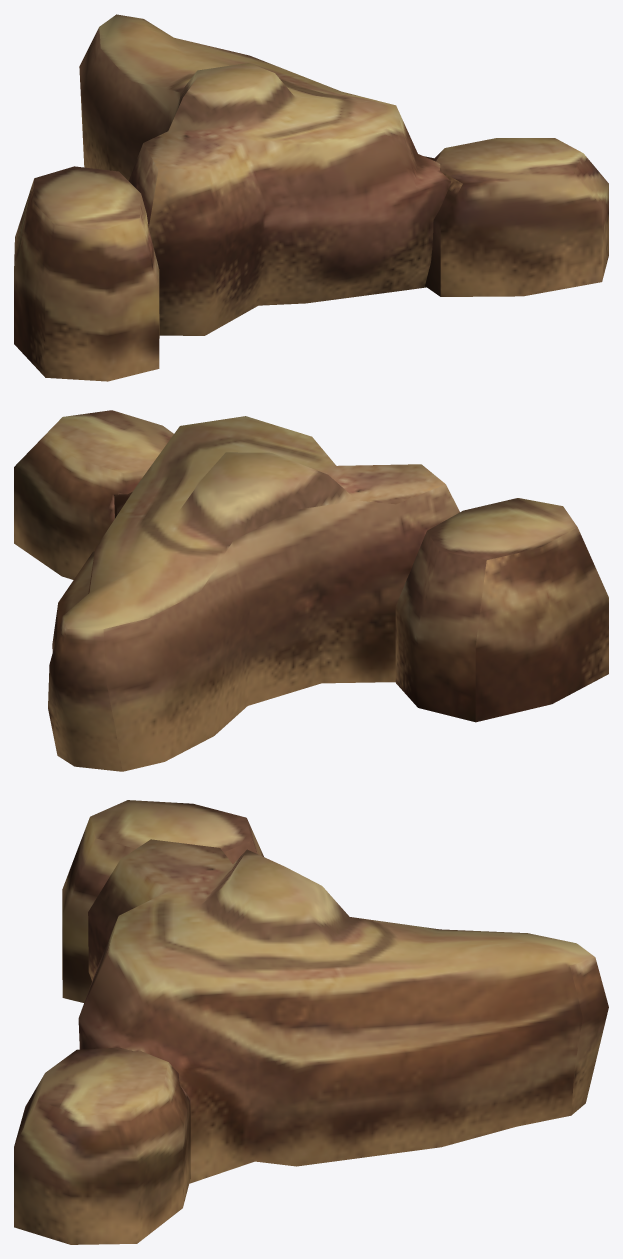
File: shitou07.FBX
The picture shows the model from 3 angles, top to bottom: view 1: azimuth 30°, elevation 25°; view 2: azimuth 150°, elevation 25°; view 3: azimuth 270°, elevation 25°; orthographic projection. The views are drawn at different scales.
Parts seen in each view (by area): view 1: shitou07; view 2: shitou07; view 3: shitou07.
Boxes of the visible parts, x1,y1,x2,y2 form: shitou07: (14,14,608,381); shitou07: (14,410,608,771); shitou07: (14,800,608,1244).
Size of the model in its own units: 262 by 86.96 by 221.
